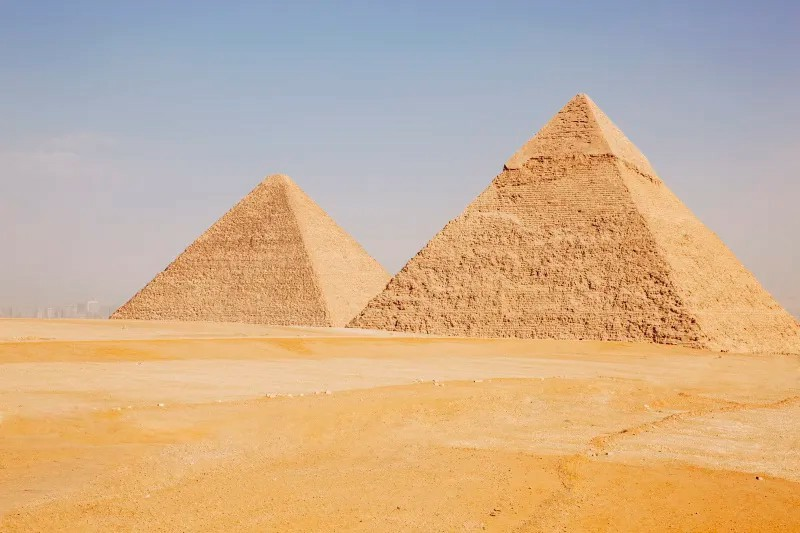Pyramid: (347, 94, 800, 355), (105, 173, 393, 330)
